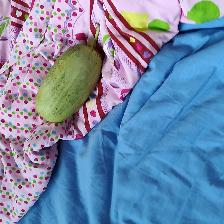gua: (40, 42, 87, 115)
